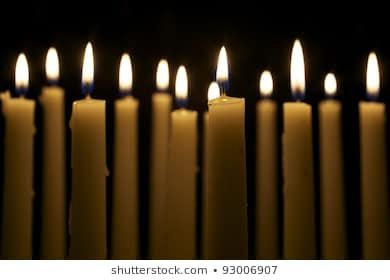fire: (286, 33, 306, 100), (212, 42, 230, 98), (79, 38, 95, 95), (11, 50, 31, 95), (363, 50, 380, 98), (116, 51, 134, 93), (42, 45, 60, 80), (175, 61, 189, 100), (154, 56, 169, 91), (257, 67, 273, 95)
